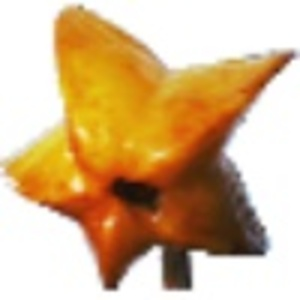carambola: (1, 3, 300, 293)
